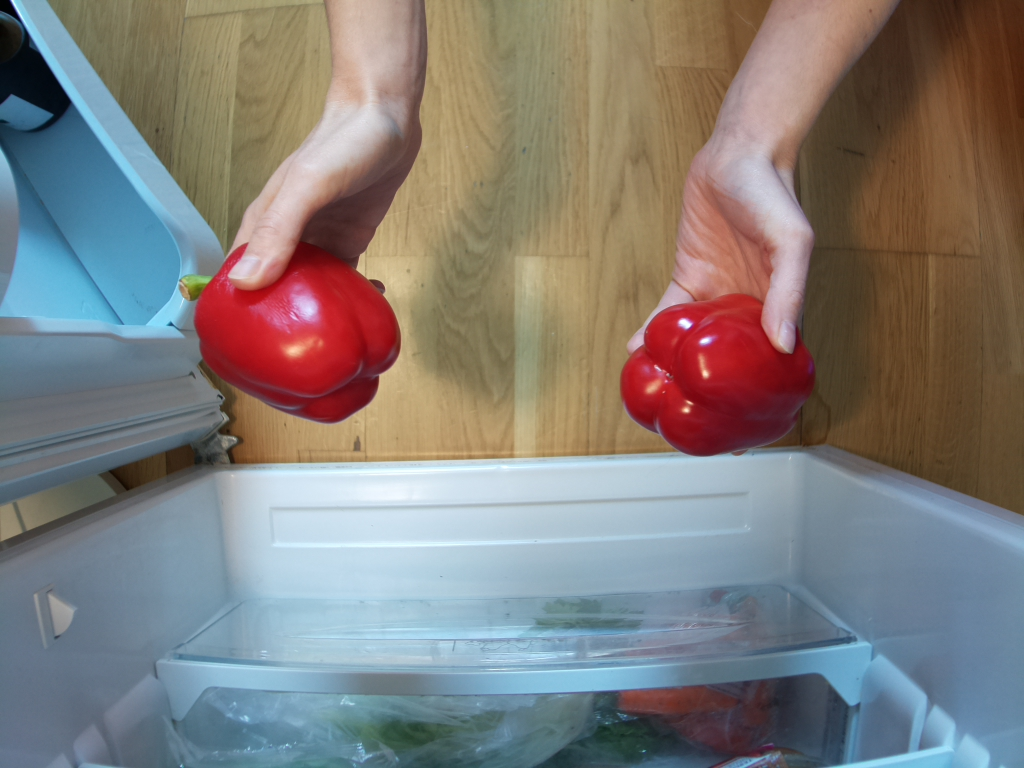pepper: (184, 241, 400, 424), (621, 291, 819, 458)
